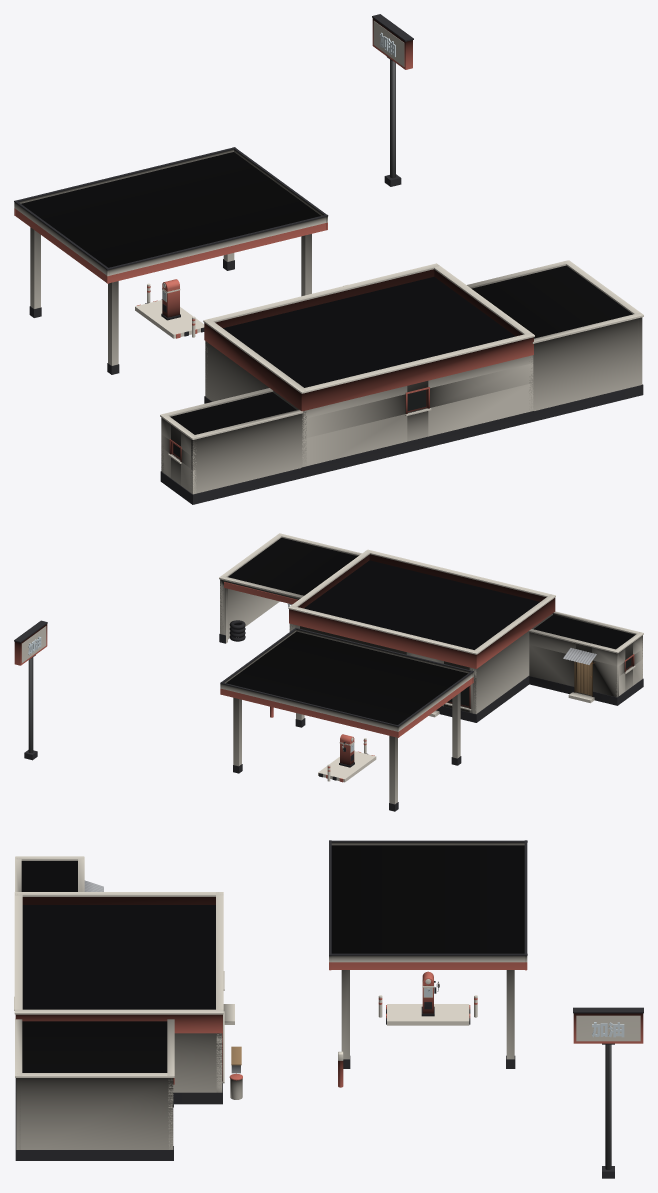
The model's file is station.glb.
3 views of the same model, one above another, from view 1: azimuth 30°, elevation 25°; view 2: azimuth 150°, elevation 25°; view 3: azimuth 270°, elevation 25° (orthographic). The views are drawn at different scales.
Parts seen in each view (by area): view 1: PART; view 2: PART, DOOR_old; view 3: PART.
Boxes of the visible parts, x1,y1,x2,y2 form: PART: [14, 14, 643, 504]; PART: [14, 533, 643, 811]; DOOR_old: [577, 662, 591, 695]; PART: [14, 840, 643, 1178].
Size of the model in its own units: 23.15 by 7.11 by 24.47.
